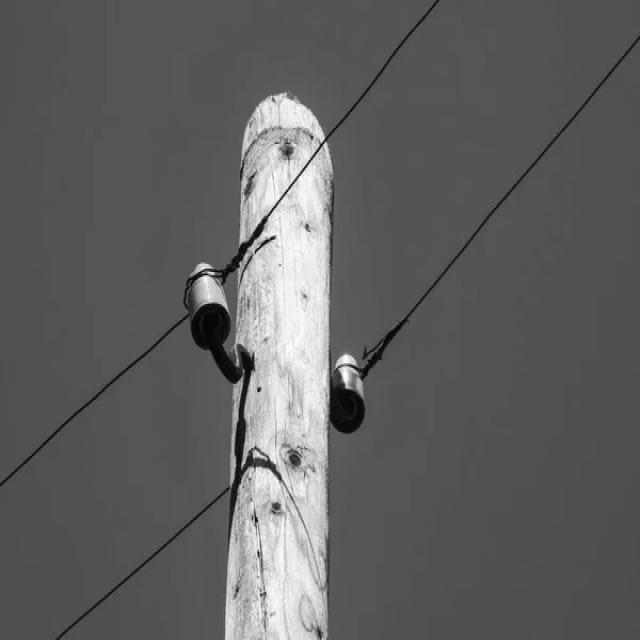Pole: (225, 84, 334, 640)
